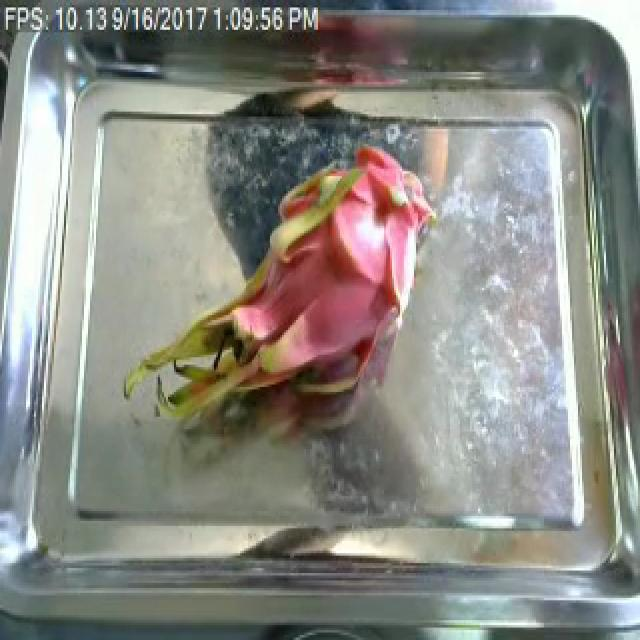fruit: (110, 117, 422, 454)
